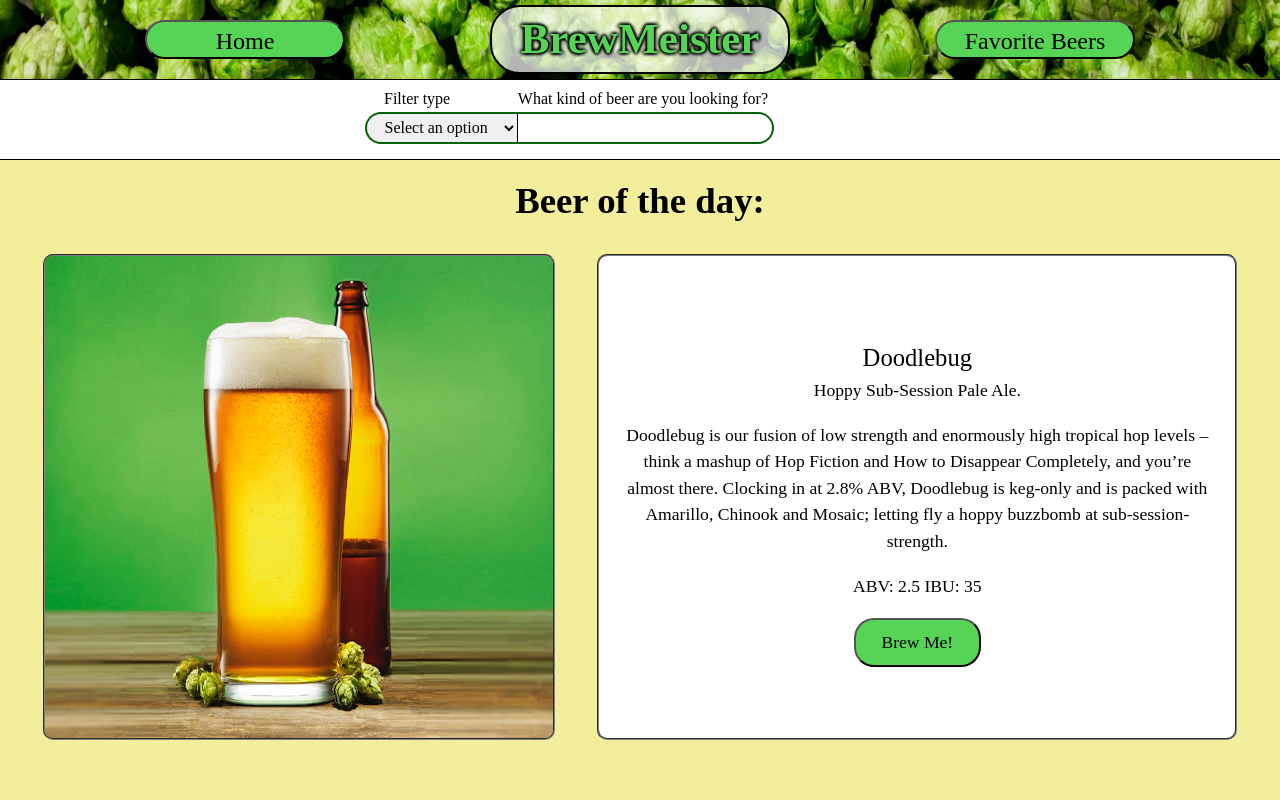
Scenario: beer of the day, home page › should be able to select an option from the dropdown, type into the searchbar, and then the filter button should appear
Select "ABV greater than:" in the dropdown with class "filter-type". click: (442, 128)
box: [365,112,519,144]
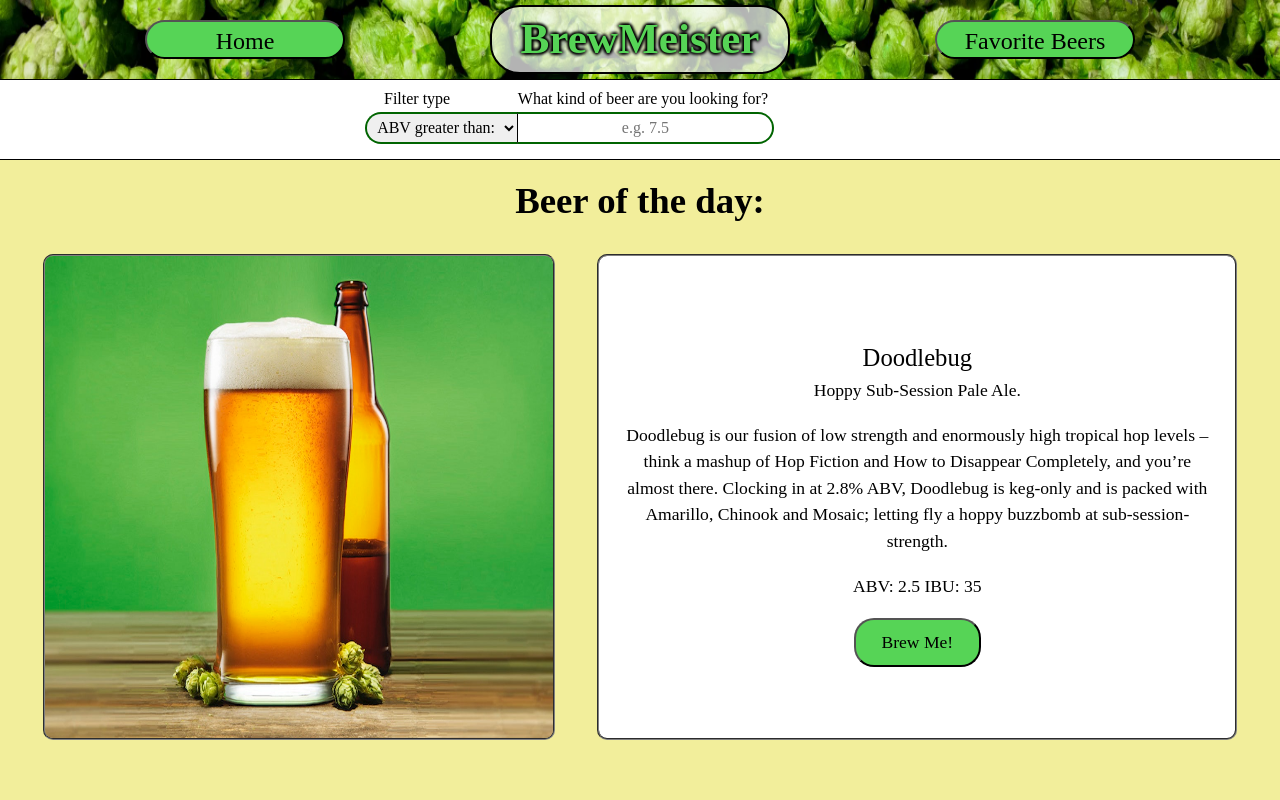
Type "10" into the field with class "filter-input". click: (646, 128)
box: [518,112,774,144]
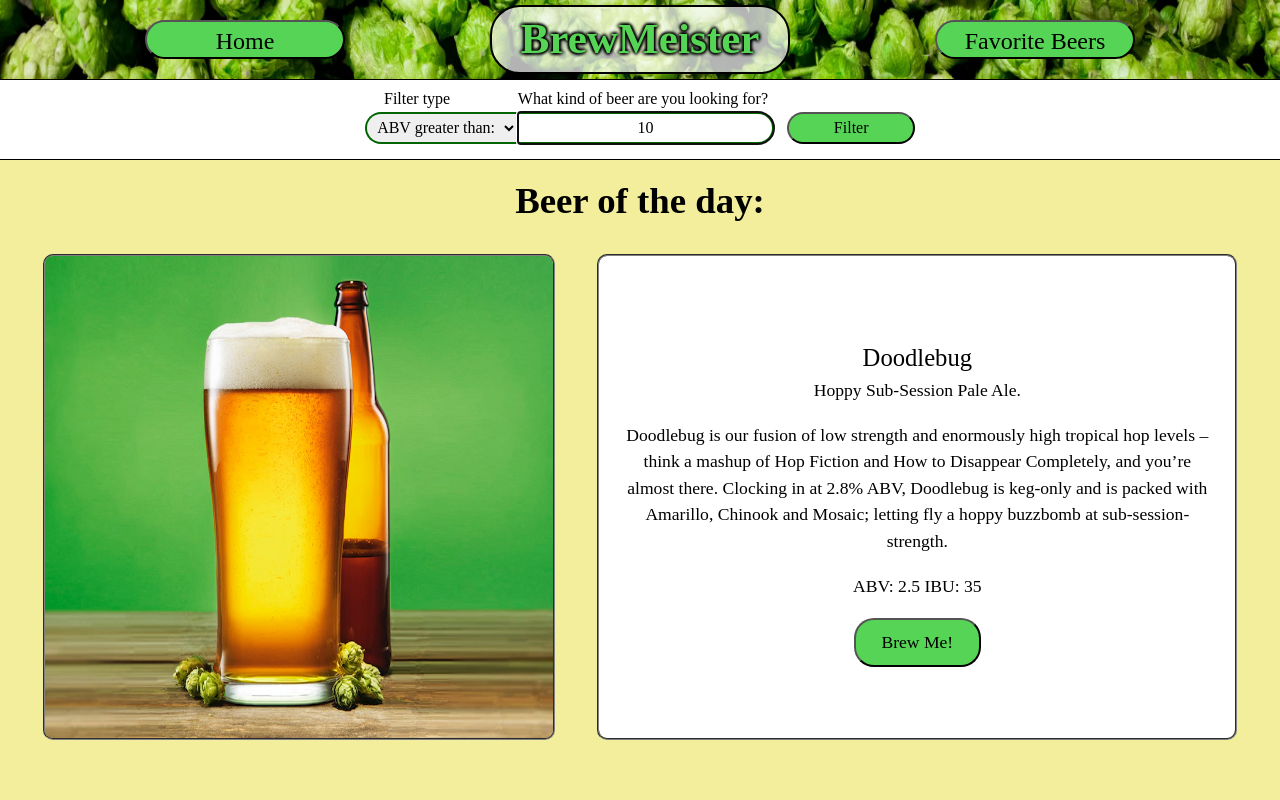
Result: the button with class "submit-filter" is shown at [787,112,915,144]
